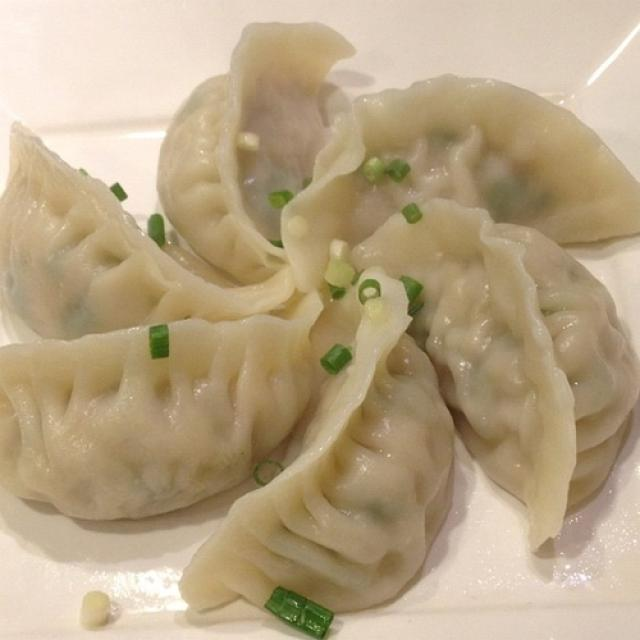带馅早点: (18, 23, 630, 618)
